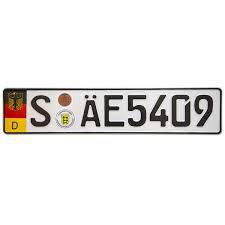0: (172, 93, 192, 128)
4: (150, 93, 170, 128)
5: (126, 93, 148, 128)
9: (193, 93, 214, 128)
E: (103, 93, 125, 128)
S: (29, 93, 52, 127)
ae: (80, 93, 101, 129)
